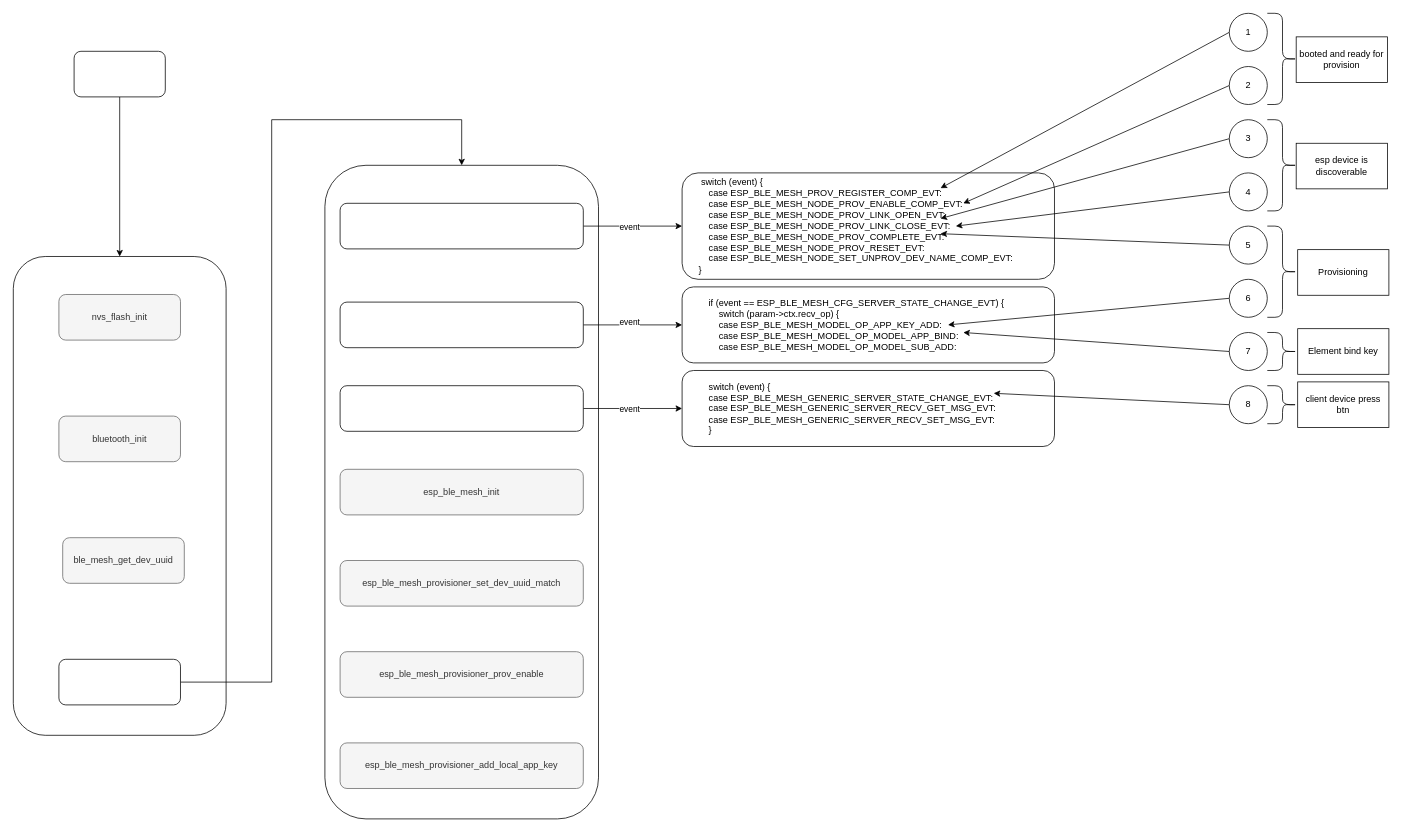
This 1402x832 diagram has some shape labels left out. Here are the shapes that lost their labels. From the top down, the centre of each, then its label:
the point at 119,74: app_main
the point at 461,226: esp_ble_mesh_register_prov_callback
the point at 461,324: esp_ble_mesh_register_config_client_callback
the point at 461,408: esp_ble_mesh_register_generic_client_callback
the point at 119,682: ble_mesh_init
